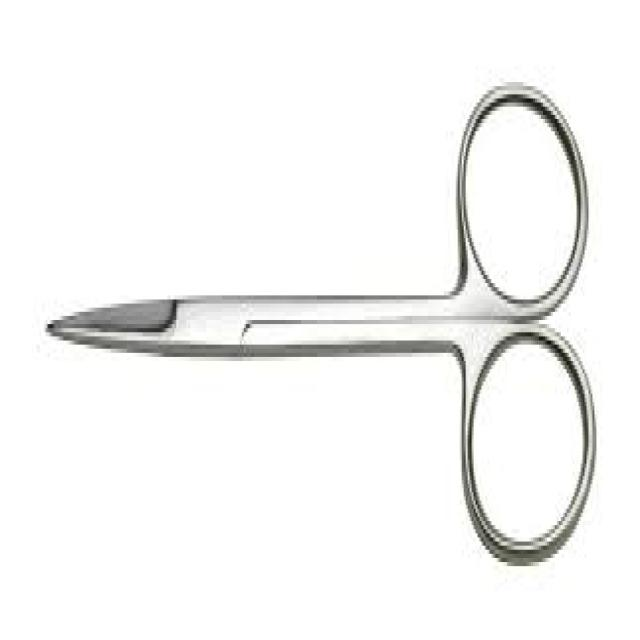scissor: (46, 78, 598, 574)
